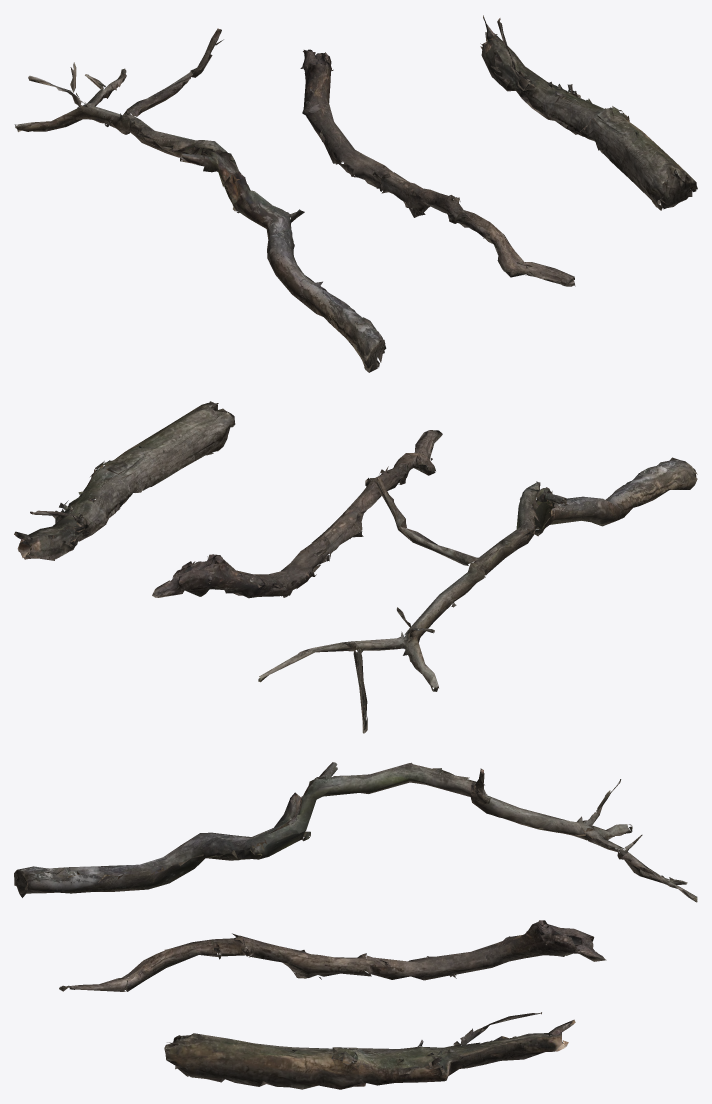
File: dry_branches_medium_01.glb
3 views of the same model, one above another, from view 1: azimuth 30°, elevation 25°; view 2: azimuth 150°, elevation 25°; view 3: azimuth 270°, elevation 25° (orthographic). The views are drawn at different scales.
Parts seen in each view (by area): view 1: dry_branches_medium_01_a; view 2: dry_branches_medium_01_a; view 3: dry_branches_medium_01_a.
Boxes of the visible parts, box(x1,y1,x2,y2) form: dry_branches_medium_01_a: box(14, 15, 697, 372); dry_branches_medium_01_a: box(14, 401, 697, 733); dry_branches_medium_01_a: box(14, 762, 697, 1089).
Size of the model in its own units: 1.06 by 0.34 by 1.3.
1 material, 1 textured.
